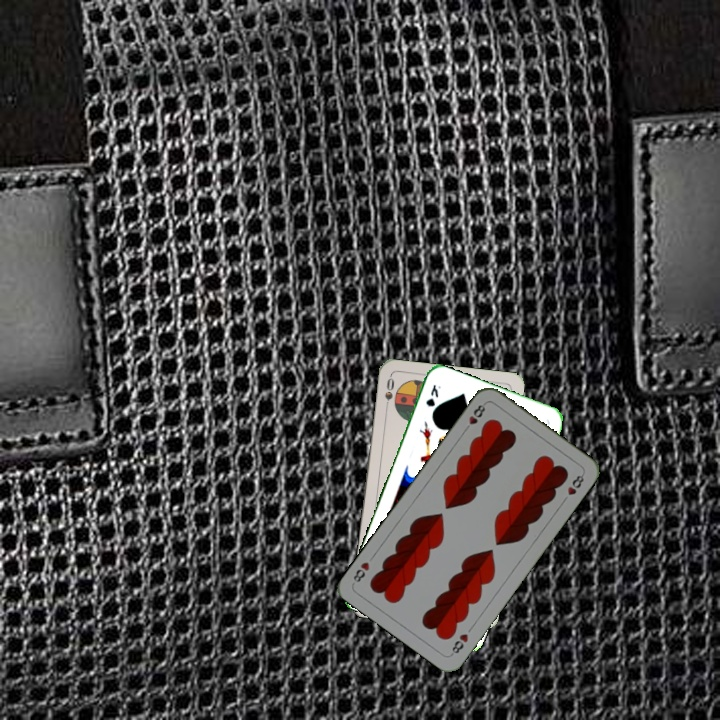GK: (422, 380, 443, 411)
H8: (460, 399, 488, 434), (447, 629, 471, 658)
SO: (381, 374, 397, 414)
